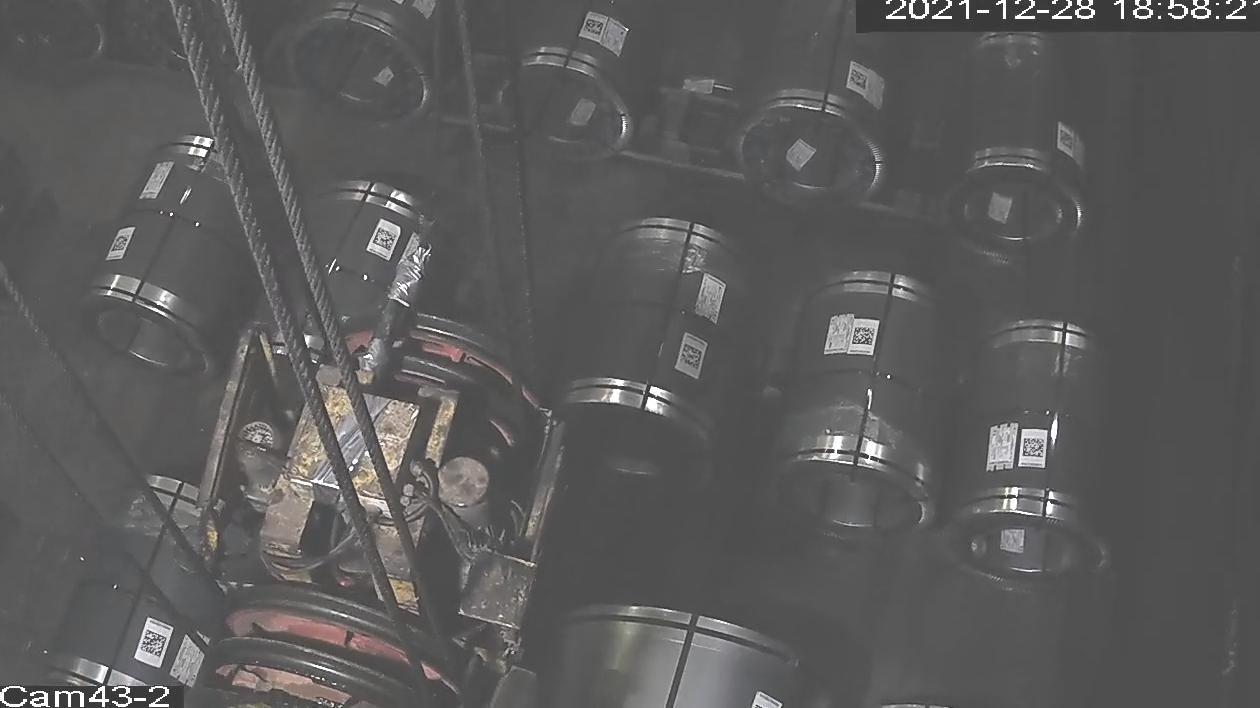data matrix: (139, 628, 169, 660), (678, 343, 706, 374), (372, 226, 399, 252), (851, 324, 878, 348), (1022, 436, 1047, 461), (848, 67, 870, 92), (583, 16, 606, 38), (1058, 128, 1077, 153), (110, 233, 131, 254)
